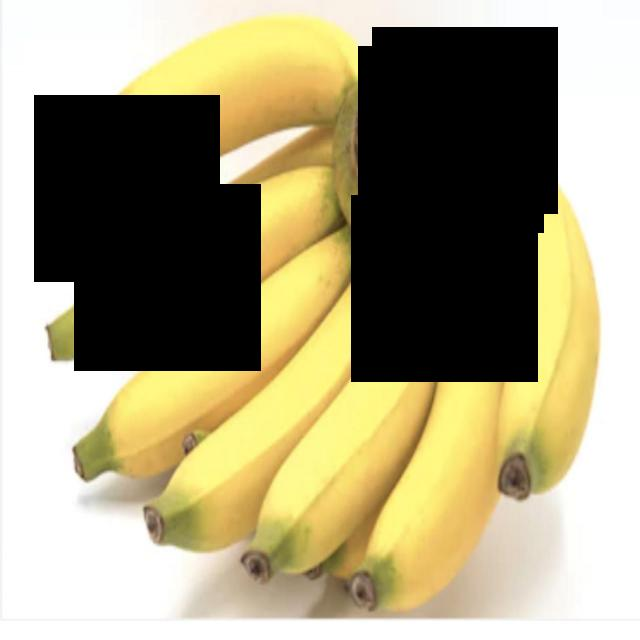banana: (109, 240, 418, 556), (238, 221, 452, 603), (47, 14, 400, 218), (457, 129, 611, 542), (366, 198, 495, 609)
